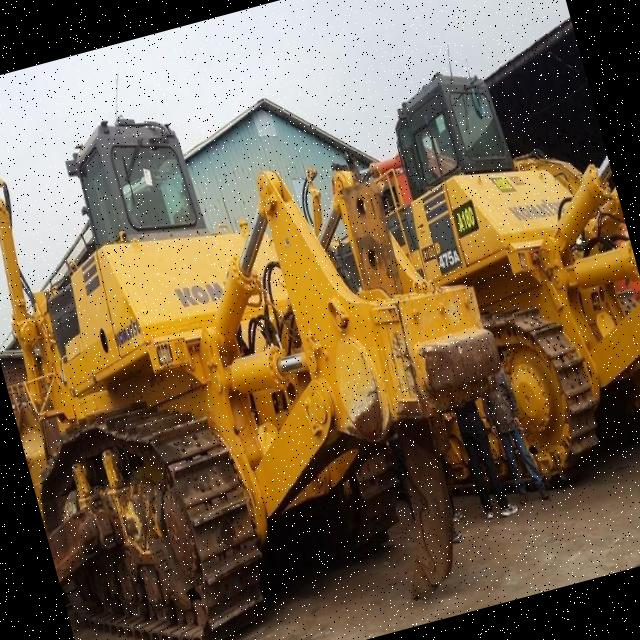Bulldozer: (0, 28, 564, 640)
